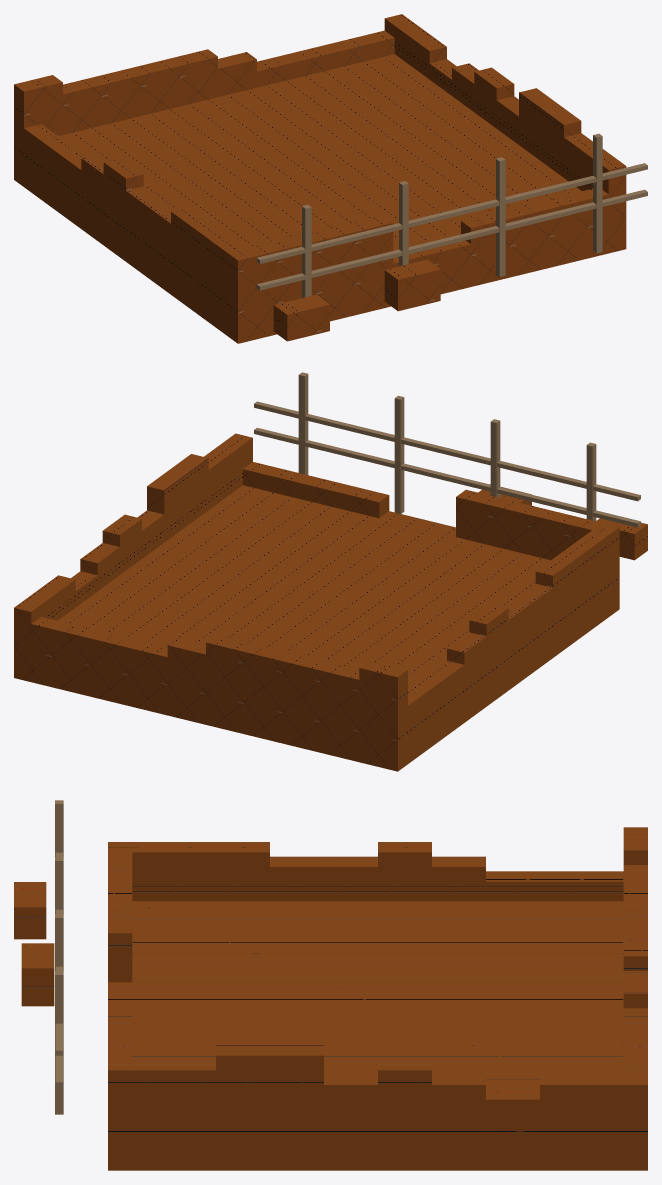
File: uruk_site_a.glb
The picture shows the model from 3 angles, top to bottom: view 1: azimuth 30°, elevation 25°; view 2: azimuth 150°, elevation 25°; view 3: azimuth 270°, elevation 25°; orthographic projection. The views are drawn at different scales.
Parts seen in each view (by area): view 1: uruk_site_a; view 2: uruk_site_a; view 3: uruk_site_a.
Part boxes in pixels (x1,y1,x2,y2): uruk_site_a: (14, 14, 647, 343); uruk_site_a: (14, 372, 647, 771); uruk_site_a: (14, 800, 647, 1170).
Size of the model in its own units: 10 by 3.45 by 11.74.
2 materials, 1 textured.
